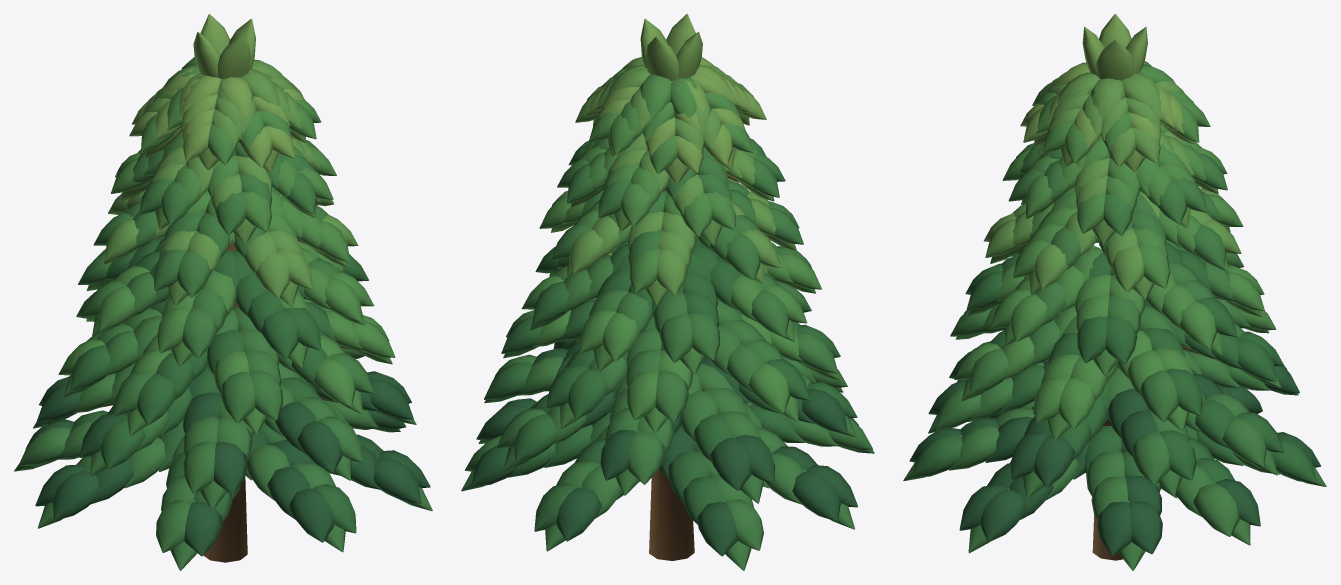
The model's file is foliage_pine_1.glb.
3 renders of one model, left to right at view 1: azimuth 30°, elevation 25°; view 2: azimuth 150°, elevation 25°; view 3: azimuth 270°, elevation 25°, orthographic.
Parts seen in each view (by area): view 1: Trunk; view 2: Trunk; view 3: Trunk.
Boxes of the visible parts, <box> form: Trunk: <box>14,14,432,570</box>; Trunk: <box>461,14,874,570</box>; Trunk: <box>903,14,1326,570</box>.
Bounding box in the file's own units: 4.96 × 6.75 × 4.95.
